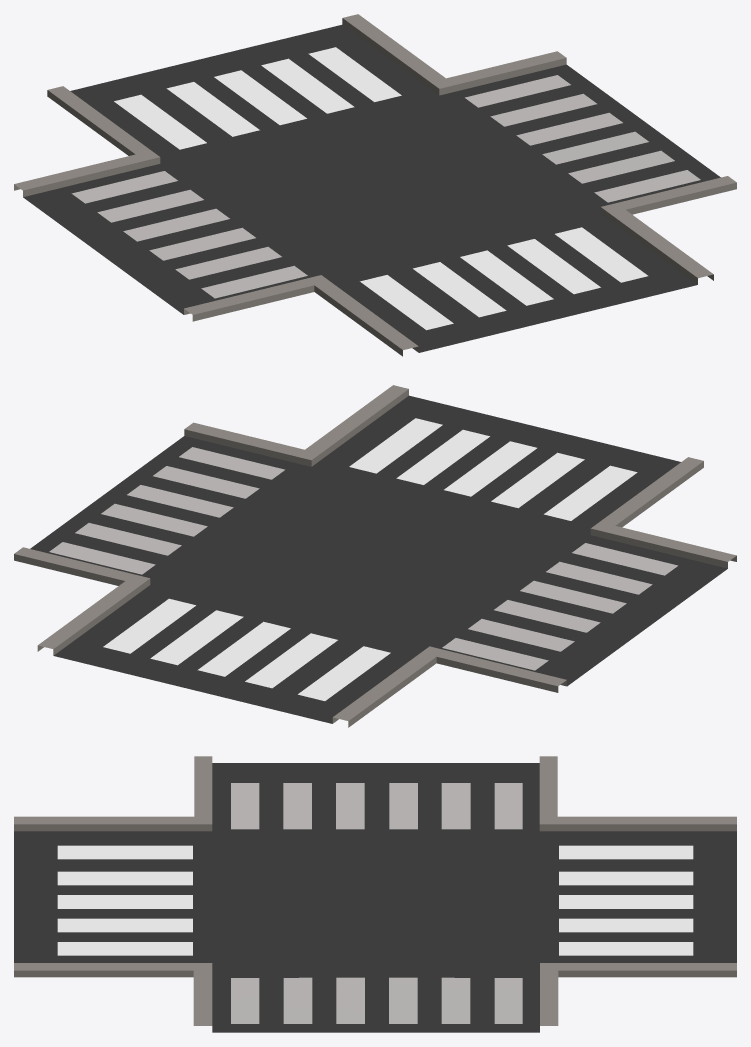
The model's file is RoadTile_4.fbx.
3 views of the same model, one above another, from view 1: azimuth 30°, elevation 25°; view 2: azimuth 150°, elevation 25°; view 3: azimuth 270°, elevation 25° (orthographic).
Visible parts, largest first — view 1: RoadTile_4; view 2: RoadTile_4; view 3: RoadTile_4.
Part boxes in pixels (left/top/right/bottom): RoadTile_4: left=14, top=14, right=736, bottom=356; RoadTile_4: left=14, top=385, right=736, bottom=727; RoadTile_4: left=14, top=756, right=736, bottom=1032.
Bounding box in the file's own units: 1025 × 12 × 1161.
